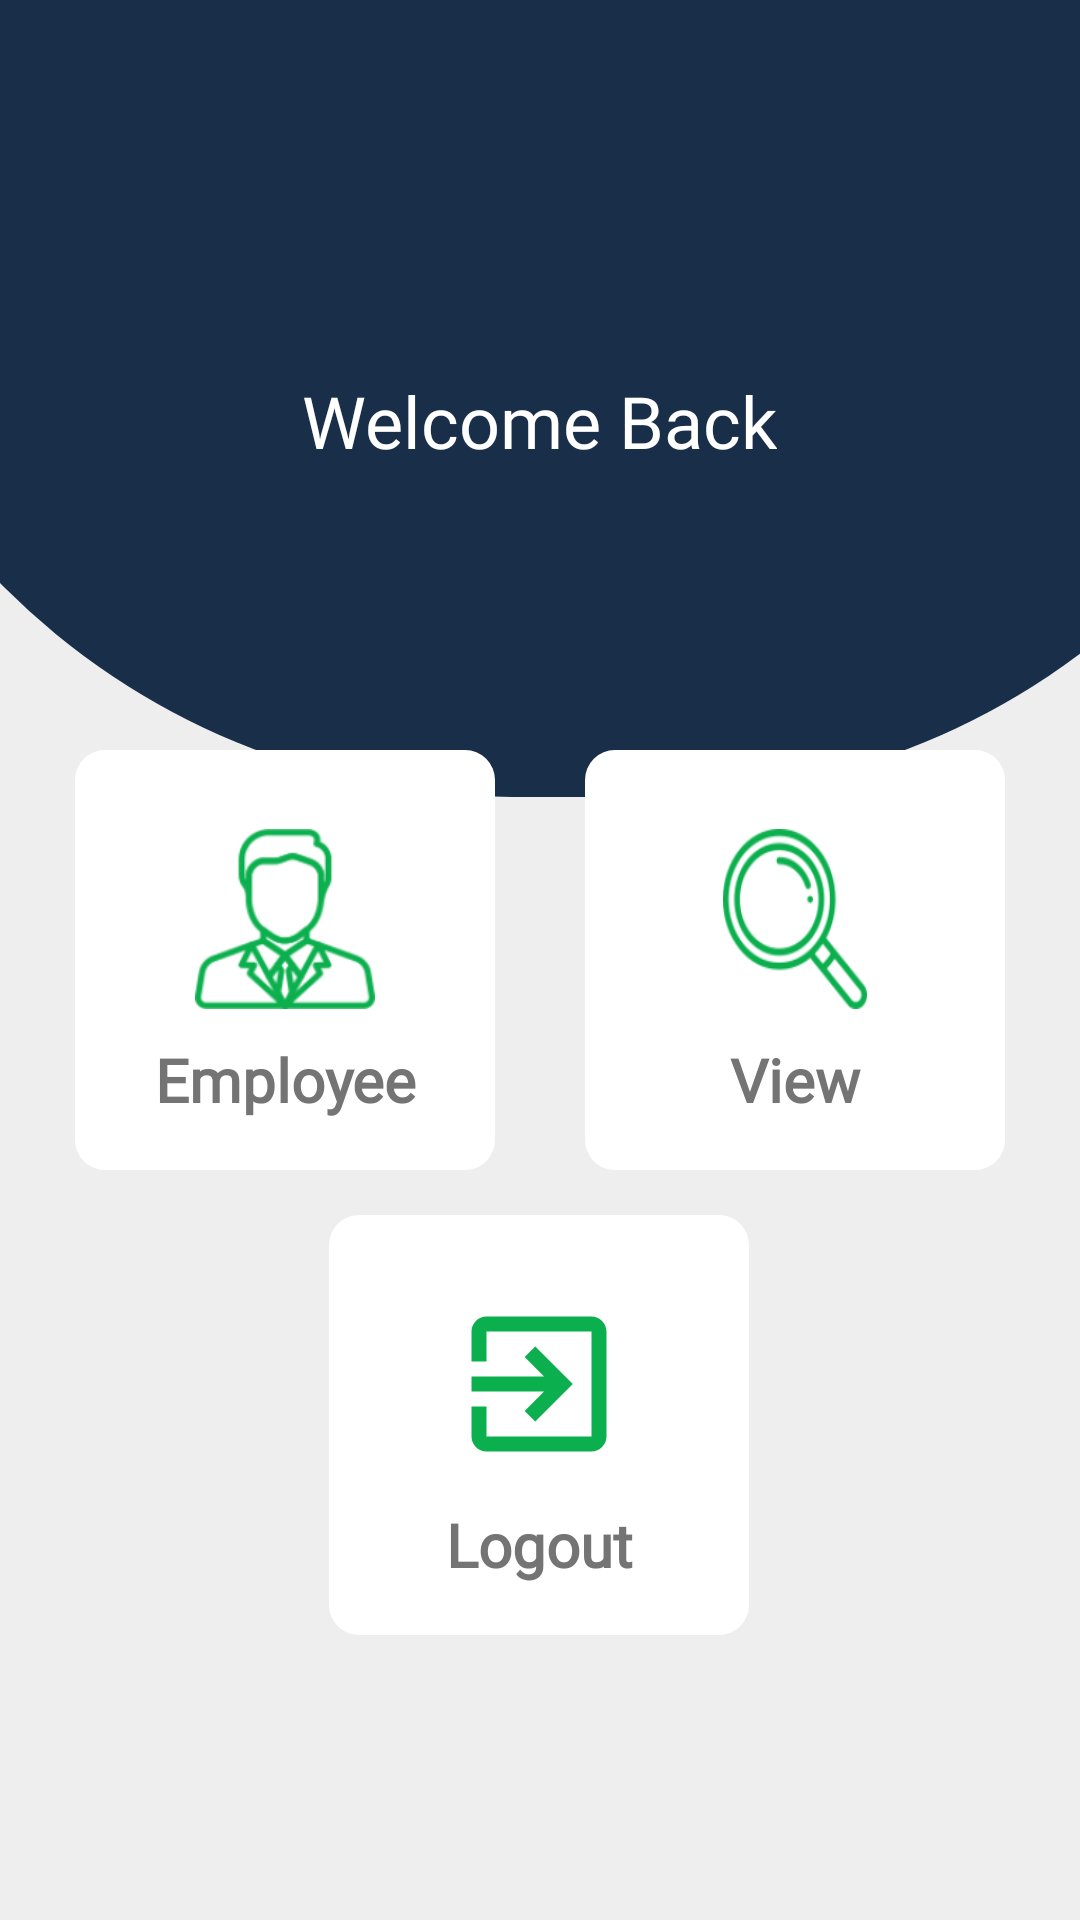

Icon click points for this 1080 × 1920 phone screenshot, format [x,y]:
manager: [285,919]
search: [795,919]
